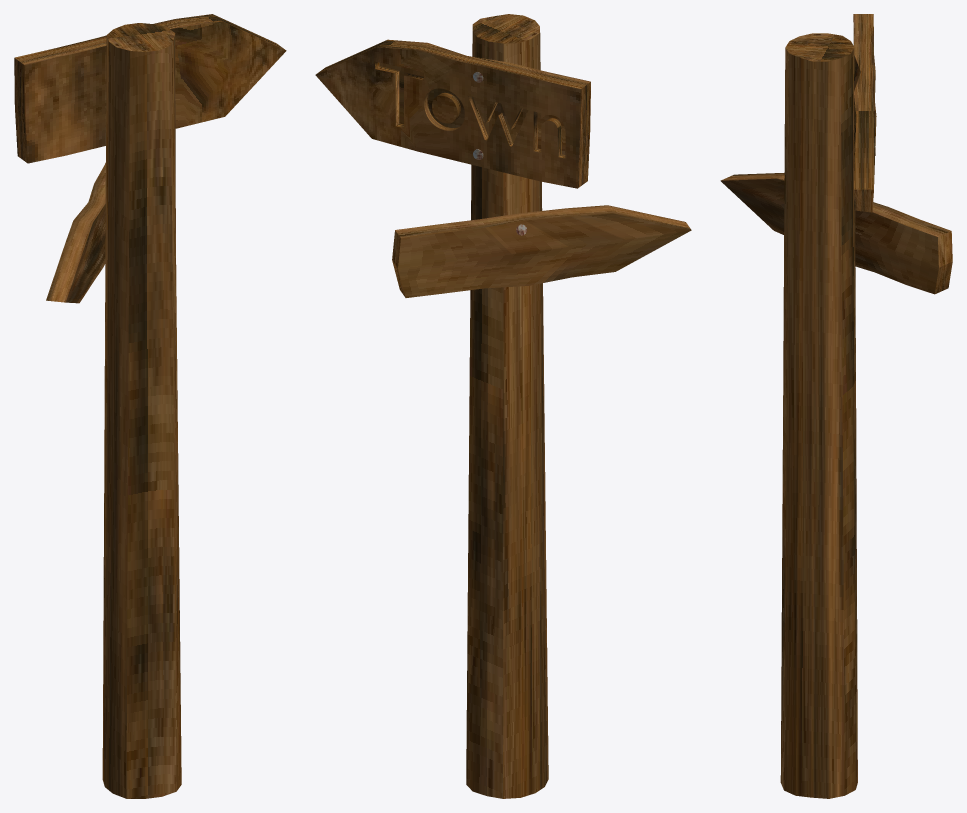
The model's file is Sign1.0.glb.
3 views of the same model, side by side, from view 1: azimuth 30°, elevation 25°; view 2: azimuth 150°, elevation 25°; view 3: azimuth 270°, elevation 25° (orthographic). The views are drawn at different scales.
Visible parts, largest first — view 1: Cylinder, Cube, Cube.001; view 2: Cylinder, Cube, Cube.001; view 3: Cylinder, Cube.001, Cube.
Part boxes in pixels (<box>): Cylinder: <box>102,23,181,798</box>; Cube: <box>14,14,286,163</box>; Cube.001: <box>46,162,105,303</box>; Cylinder: <box>466,14,548,798</box>; Cube: <box>315,39,590,188</box>; Cube.001: <box>392,205,691,297</box>; Cylinder: <box>780,33,857,798</box>; Cube.001: <box>720,172,952,294</box>; Cube: <box>853,14,876,212</box>.
Size of the model in its own units: 1.19 by 2.8 by 0.8024.
Materials: 2 (2 with a texture image).
